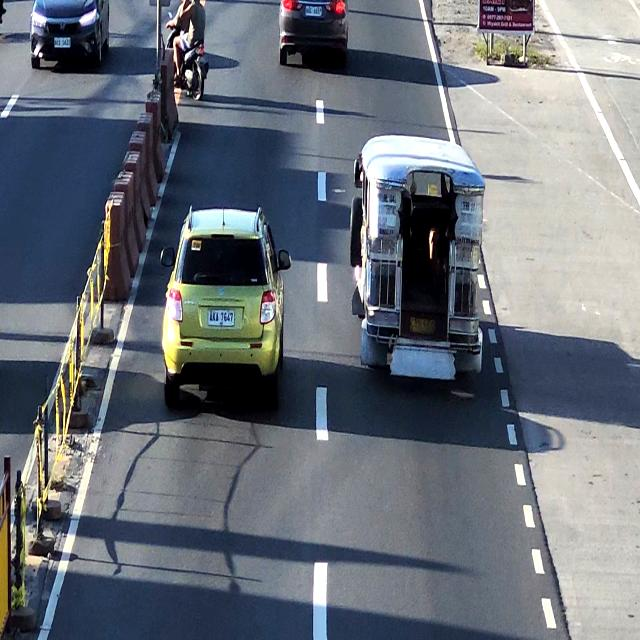Car: (356, 139, 484, 382), (162, 209, 288, 417), (279, 0, 352, 70)
License-Plate: (206, 309, 236, 331), (408, 318, 439, 336), (304, 6, 322, 18)
Motorcycle: (159, 0, 207, 100)
